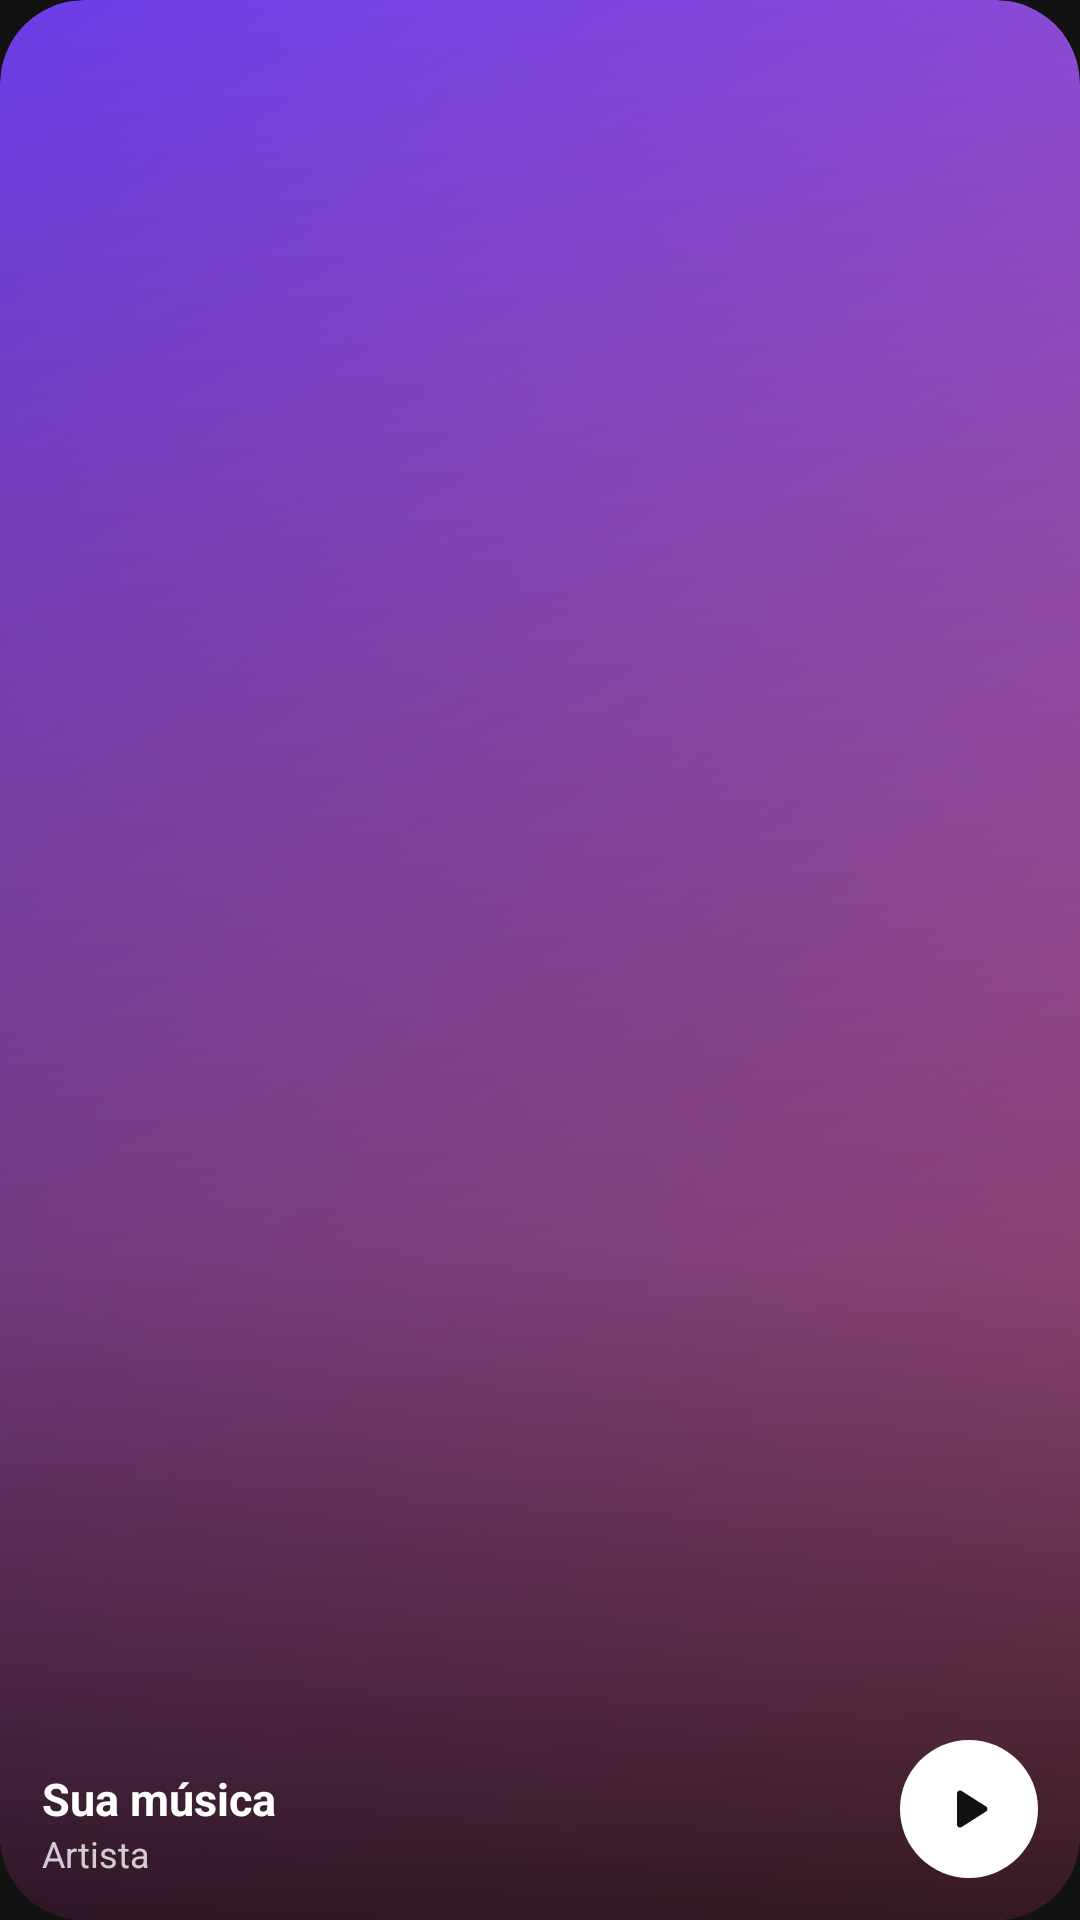

Screen size 1080x1920. Icon name, then its center in pixels as point (x, y):
widget play: point (969, 1809)
